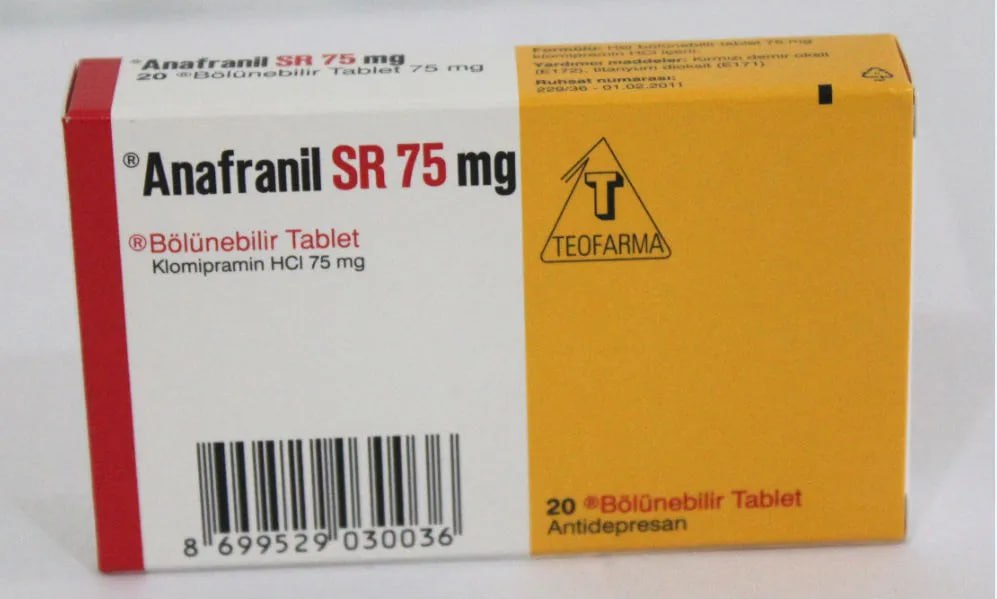Medicine: (55, 32, 923, 580)
